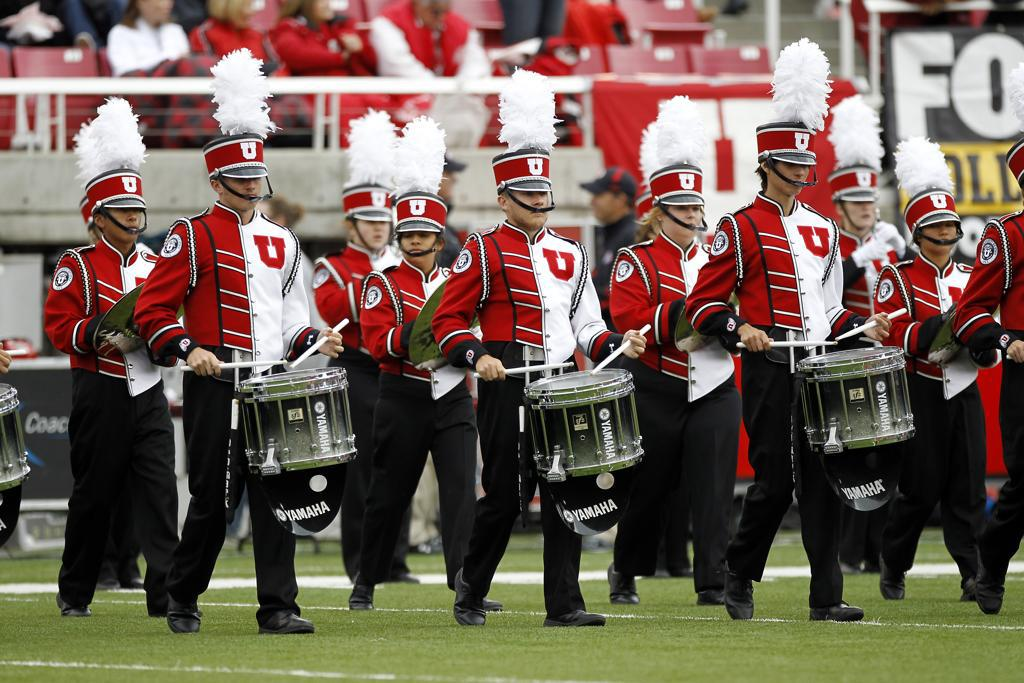face: (223, 161, 262, 211), (507, 185, 550, 227), (104, 198, 142, 242), (400, 222, 438, 264), (663, 195, 701, 237), (769, 158, 810, 196), (354, 209, 390, 250), (922, 212, 957, 253), (844, 188, 876, 228), (430, 171, 456, 207), (591, 191, 618, 220), (141, 1, 174, 21), (311, 1, 339, 21), (234, 1, 256, 23)
